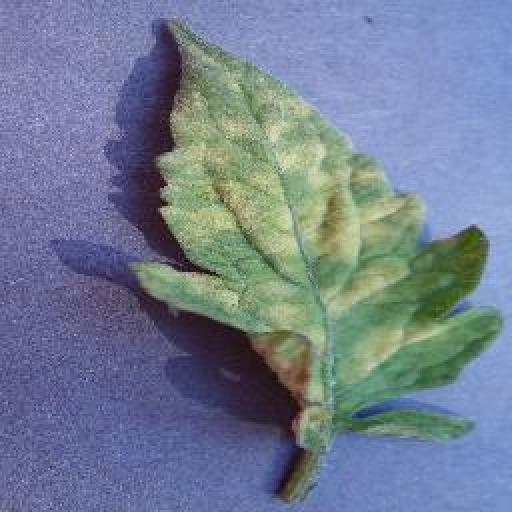disease_tomato: (139, 14, 503, 444)
